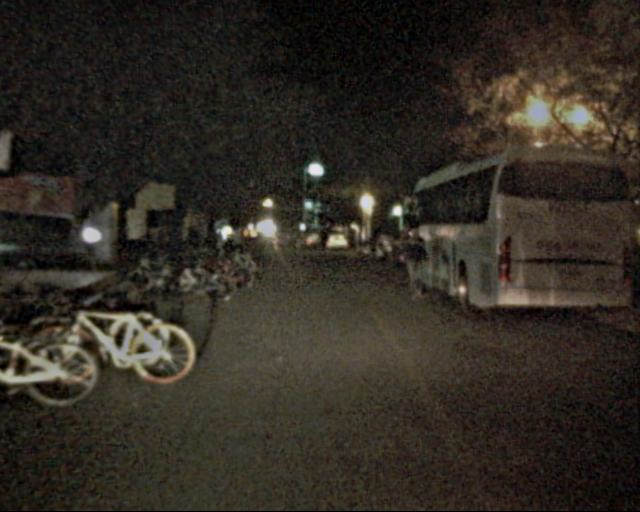person: (400, 221, 435, 307), (227, 217, 248, 265)
